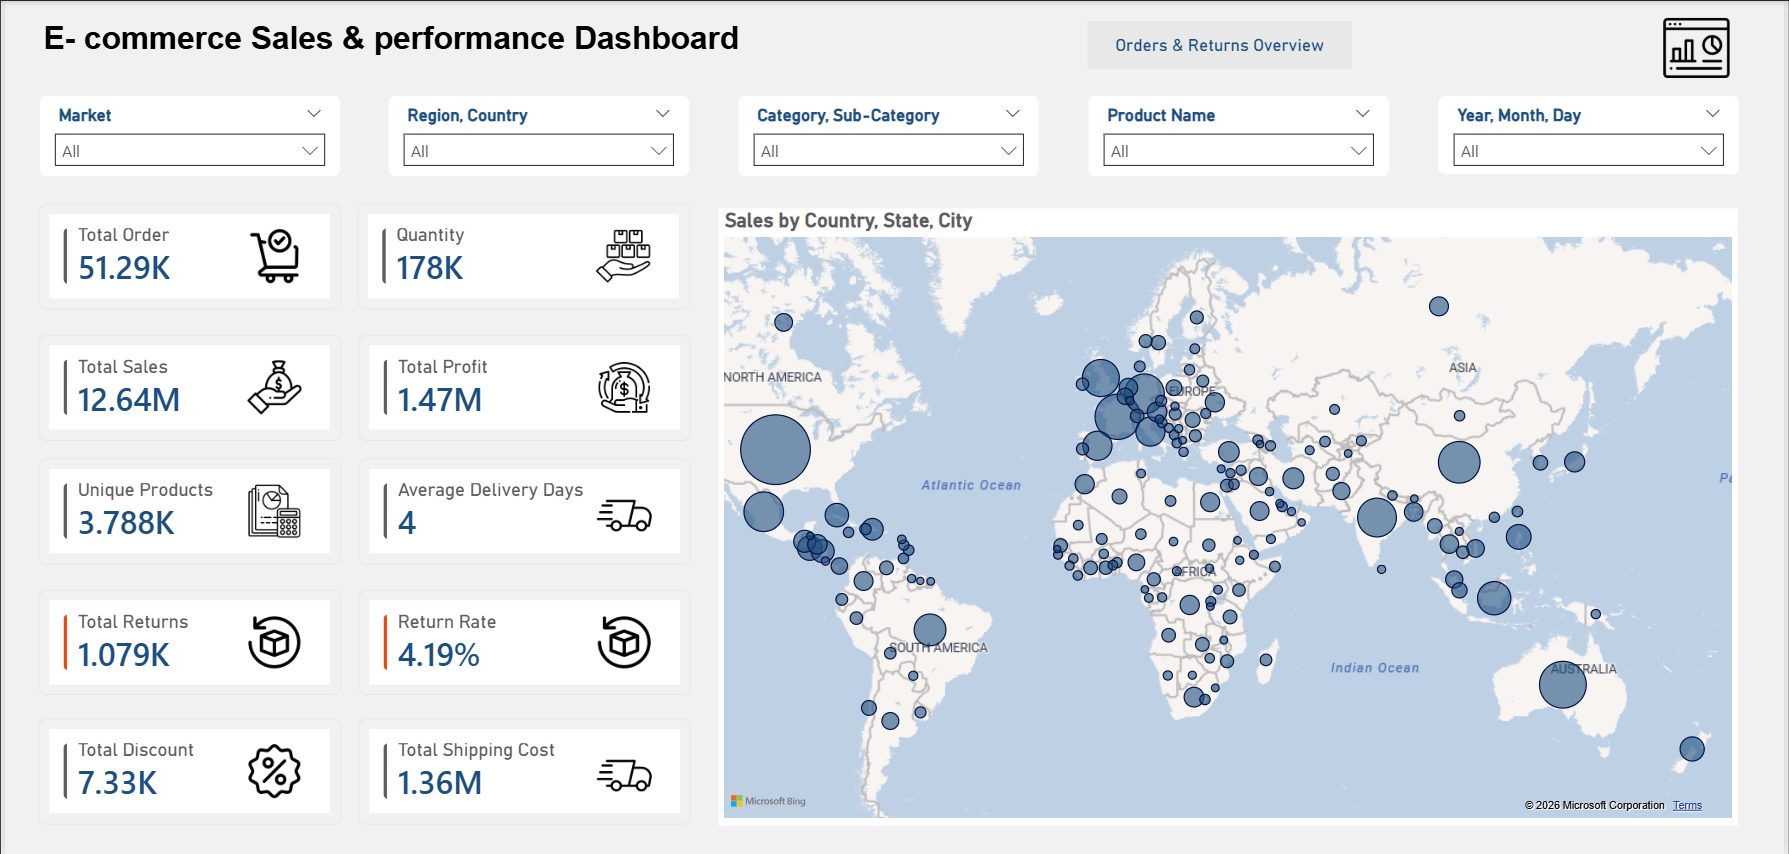

The page's visual inventory and layout, read from the dashboard file:
{"tool":"powerbi","page":{"name":"E-commerce Summary Page","canvas":[1500,720],"ordinal":0},"visuals":[{"type":"textbox","box":[27.6,11.6,613.6,46.4],"z":0},{"type":"image","box":[1391,12,71.6,56.2],"z":1000},{"type":"slicer","fields":{"Values":["Orders.Market"]},"box":[28,79,255.1,69.4],"z":2000},{"type":"slicer","fields":{"Values":["Orders.Region","Orders.Country"]},"box":[323.1,79,255.1,69.4],"z":3000},{"type":"slicer","fields":{"Values":["Orders.Category","Orders.Sub-Category"]},"box":[618.2,79,255.1,69.4],"z":4000},{"type":"slicer","fields":{"Values":["Orders.Product Name"]},"box":[913.3,79,255.1,69.4],"z":5000},{"type":"slicer","fields":{"Values":["Calendar.Year","Calendar.MonthSort","Calendar.Day"]},"box":[1208.3,79,255,68.3],"z":6000},{"type":"cardVisual","fields":{"Data":["CountNonNull(Orders.Order ID)"]},"box":[28,171,255,89.7],"z":7000},{"type":"cardVisual","fields":{"Data":["Sum(Orders.Quantity)"]},"box":[297.8,171.3,280.9,89.9],"z":8000},{"type":"cardVisual","fields":{"Data":["Sum(Orders.Sales)"]},"box":[28,281.6,255,89.7],"z":9000},{"type":"cardVisual","fields":{"Data":["Sum(Orders.Profit)"]},"box":[298.3,281.6,280,89.7],"z":10000},{"type":"cardVisual","fields":{"Data":["Count(Orders.Product ID)"]},"box":[28,385.9,255,89.7],"z":11000},{"type":"cardVisual","fields":{"Data":["Orders.Average Delivery Days"]},"box":[298.3,385.9,280,89.7],"z":12000},{"type":"cardVisual","fields":{"Data":["Returns.Total Returns"]},"box":[28,496.4,255,89],"z":13000},{"type":"cardVisual","fields":{"Data":["Returns.Return Rate"]},"box":[298.3,496.4,280,89],"z":14000},{"type":"cardVisual","fields":{"Data":["Sum(Orders.Discount)"]},"box":[28,604.8,255,89.7],"z":15000},{"type":"cardVisual","fields":{"Data":["Sum(Orders.Shipping Cost)"]},"box":[298.3,604.8,280,89.7],"z":16000},{"type":"map","title":"Sales by Country, State, City","fields":{"Category":["Orders.Country","Orders.State","Orders.City"],"Size":["Sum(Orders.Sales)"]},"box":[602.5,175.6,859.6,519.7],"z":17000},{"type":"actionButton","box":[913,16.9,223.2,40.6],"z":18000}]}

Visuals, with their boxes in screenshot pixels (x1, y1, x2, y2), scaled from the page's 1500x720 canvas onto the 1789x854 screenshot:
textbox: <box>33,14,765,69</box>
image: <box>1659,14,1744,81</box>
slicer - Orders.Market: <box>33,94,338,176</box>
slicer - Orders.Region x Orders.Country: <box>385,94,690,176</box>
slicer - Orders.Category x Orders.Sub-Category: <box>737,94,1042,176</box>
slicer - Orders.Product Name: <box>1089,94,1394,176</box>
slicer - Calendar.Year x Calendar.MonthSort: <box>1441,94,1745,175</box>
cardVisual - CountNonNull(Orders.Order ID): <box>33,203,338,309</box>
cardVisual - Sum(Orders.Quantity): <box>355,203,690,310</box>
cardVisual - Sum(Orders.Sales): <box>33,334,338,440</box>
cardVisual - Sum(Orders.Profit): <box>356,334,690,440</box>
cardVisual - Count(Orders.Product ID): <box>33,458,338,564</box>
cardVisual - Orders.Average Delivery Days: <box>356,458,690,564</box>
cardVisual - Returns.Total Returns: <box>33,589,338,694</box>
cardVisual - Returns.Return Rate: <box>356,589,690,694</box>
cardVisual - Sum(Orders.Discount): <box>33,717,338,824</box>
cardVisual - Sum(Orders.Shipping Cost): <box>356,717,690,824</box>
"Sales by Country, State, City" map: <box>719,208,1744,825</box>
actionButton: <box>1089,20,1355,68</box>
